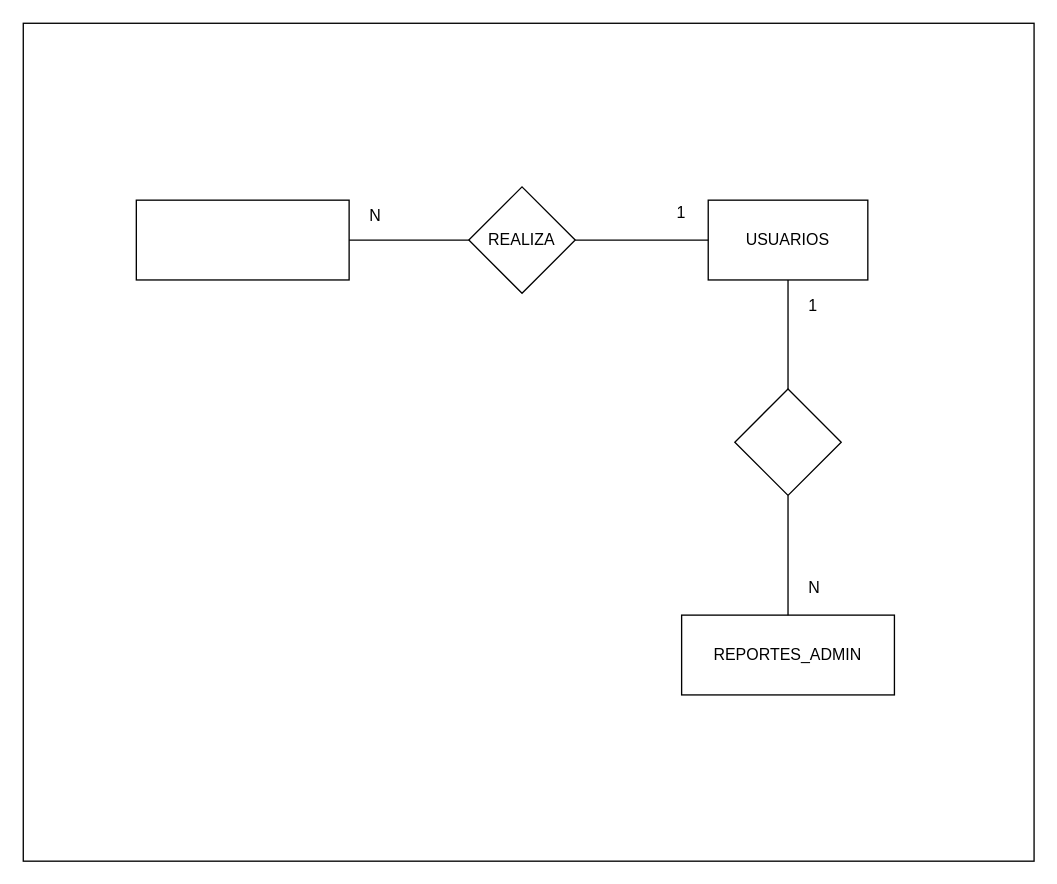
Some shapes in this 1057 by 884 pixel diagram are drawn without their labels. Here are the shapes that lost their labels. From the top down, the box of each, then its label:
(135, 199, 349, 280): ACIVIDADES_USUARIO
(733, 388, 841, 495): GENERA
